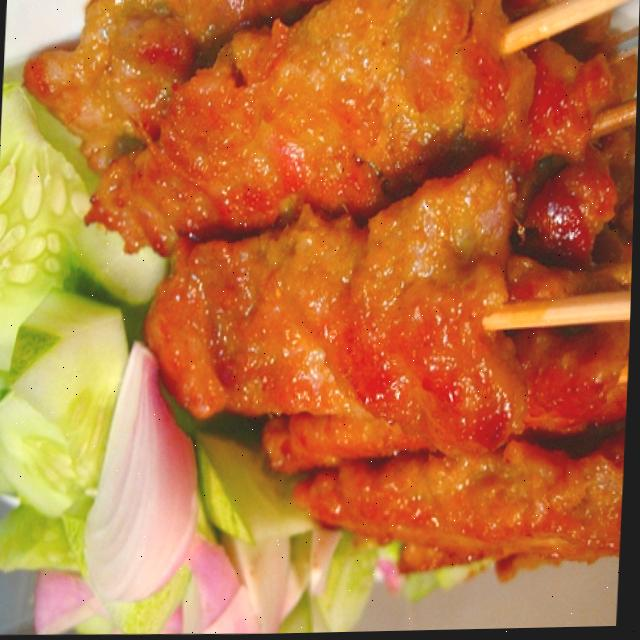牛肉菜式: (30, 0, 638, 610)
